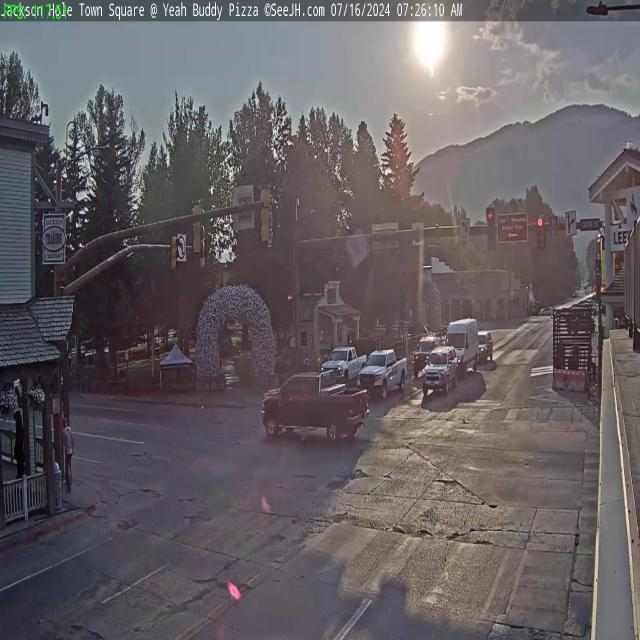person: (60, 418, 76, 492)
pickup: (262, 372, 369, 448), (362, 350, 407, 401), (320, 344, 370, 382)
suv: (422, 346, 461, 395), (414, 332, 439, 372), (477, 327, 495, 362)
traffic light: (260, 184, 274, 246), (190, 200, 203, 256), (486, 208, 496, 253), (170, 232, 179, 272), (536, 216, 544, 250)
van: (444, 316, 480, 376)
